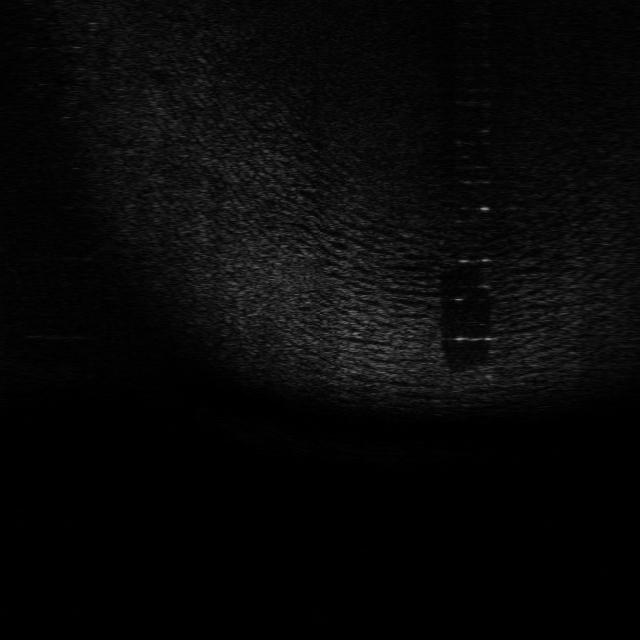cube: (446, 364, 492, 393)
